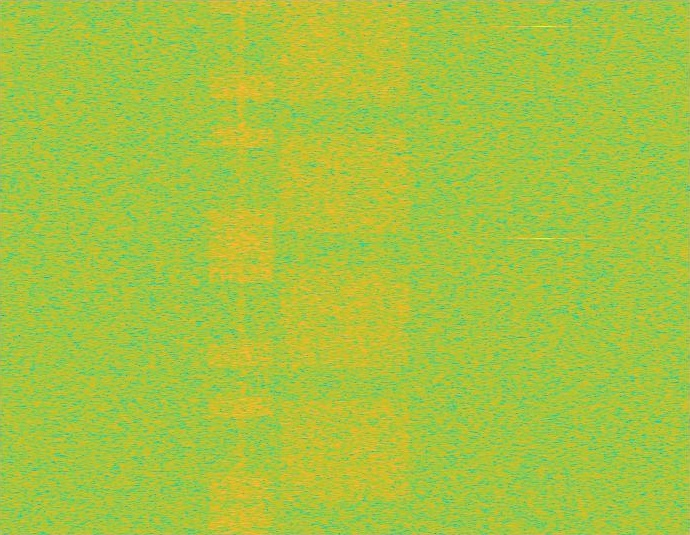5G: (276, 0, 414, 534)
DSSS: (237, 0, 246, 534)
LTE: (207, 0, 276, 534)
Radar: (536, 0, 550, 534)
